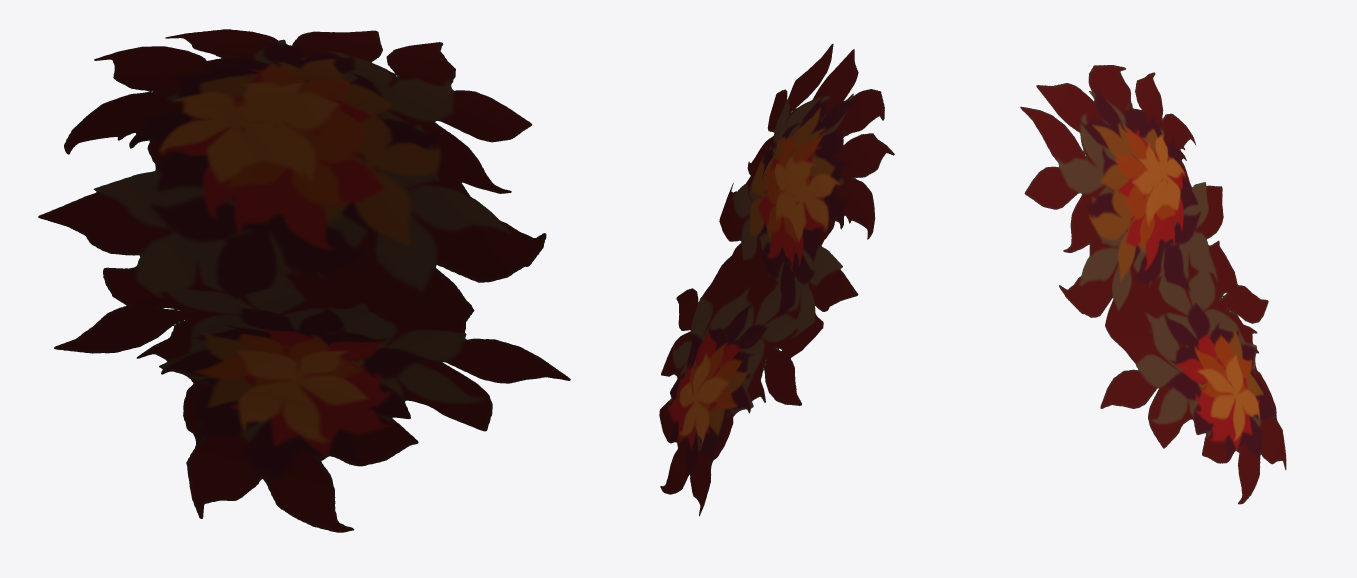
The picture shows the model from 3 angles, left to right: view 1: azimuth 30°, elevation 25°; view 2: azimuth 150°, elevation 25°; view 3: azimuth 270°, elevation 25°; orthographic projection. The views are drawn at different scales.
Parts seen in each view (by area): view 1: Plane1022; view 2: Plane1022; view 3: Plane1022.
Part boxes in pixels (x1,y1,x2,y2): Plane1022: (38, 29, 570, 532); Plane1022: (659, 44, 894, 516); Plane1022: (1020, 65, 1286, 504).
Bounding box in the file's own units: 0.1905 × 0.231 × 0.1918.
